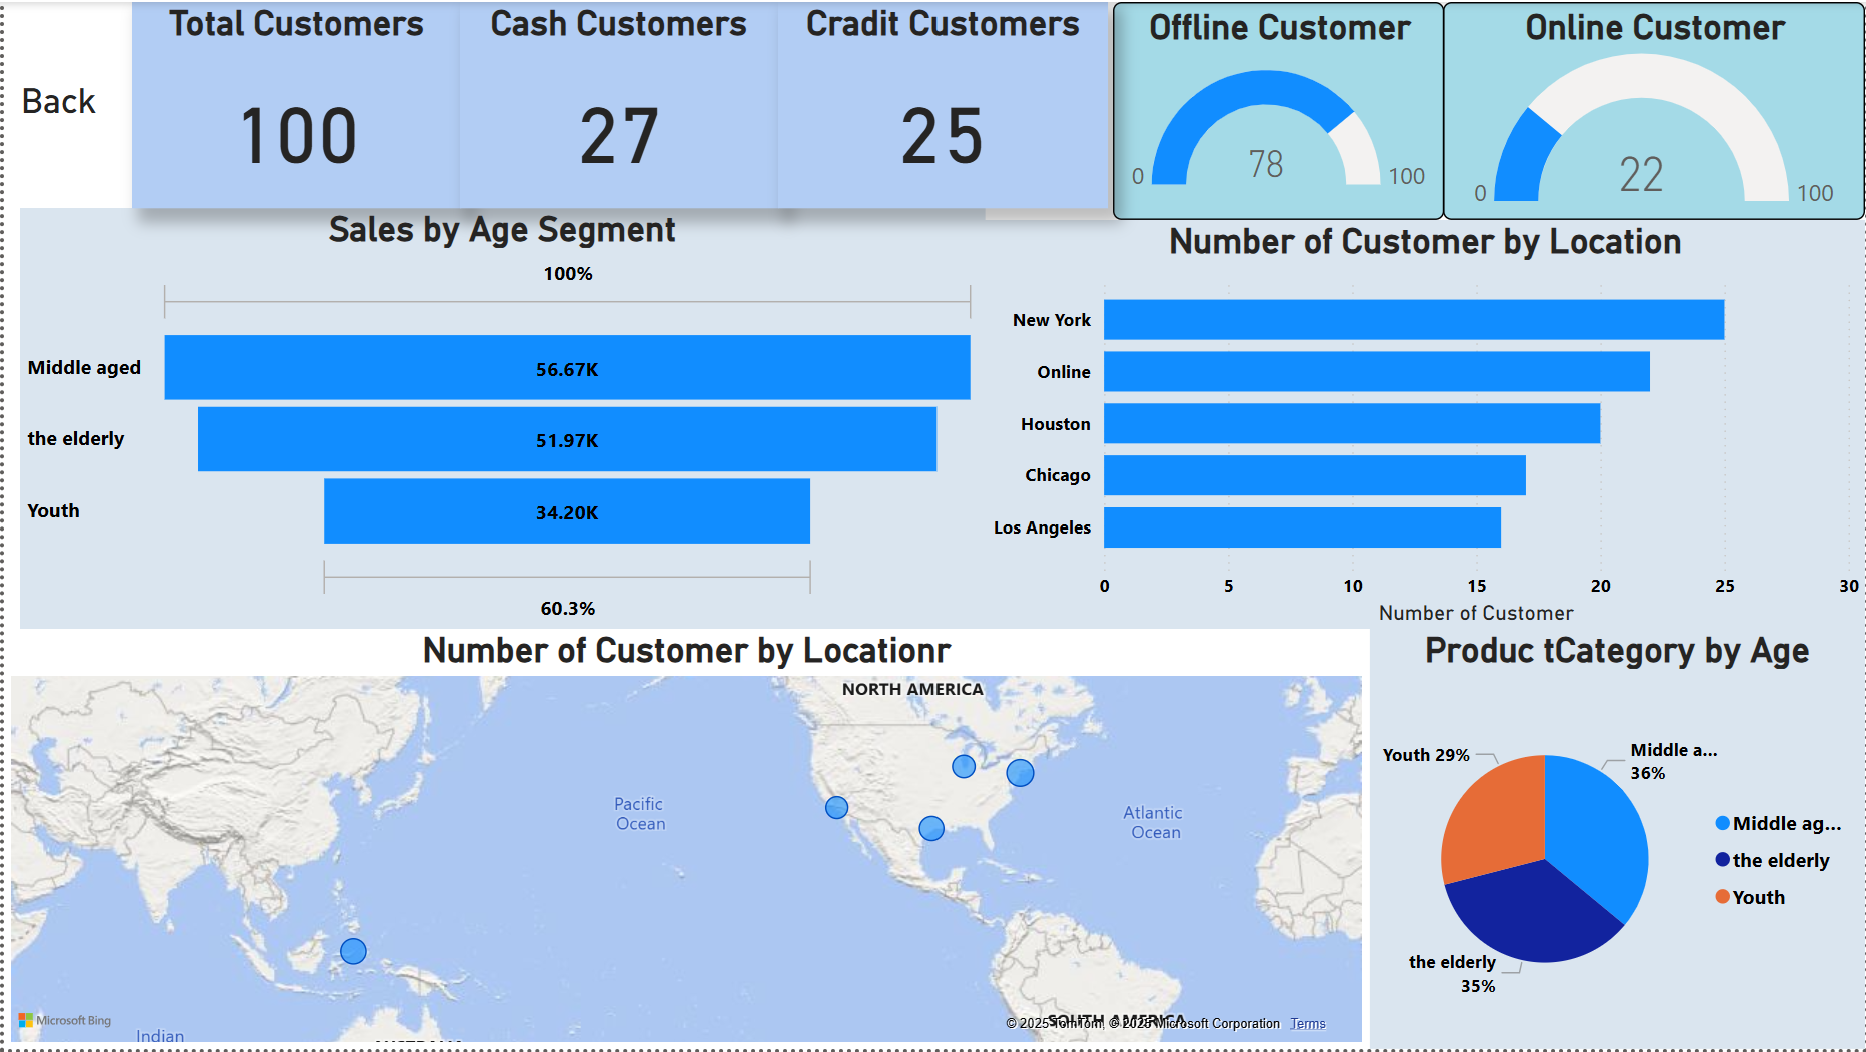

This screenshot's page, from the dashboard's own definition file:
{"tool":"powerbi","page":{"name":"Customer Analysis ","canvas":[1280,720],"ordinal":2},"visuals":[{"type":"actionButton","title":"Back","box":[0,53.1,75,32.8],"z":0},{"type":"pieChart","title":" Produc tCategory by Age","fields":{"Category":["Table1.Age Segment"],"Y":["Table1.ProductCategory"]},"box":[939.3,431.4,342.3,289.1],"z":1000},{"type":"clusteredBarChart","fields":{"Category":["Table1.Location"],"Y":["Measures list.Number of Customer"]},"box":[675.2,150,606.4,282.9],"z":2000},{"type":"funnel","title":" Sales by Age Segment","fields":{"Category":["Table1.Age Segment"],"Y":["Measures list.Total Sales"]},"box":[10.9,142.2,664.2,290.7],"z":3000},{"type":"map","title":" Number of Customer by Locationr ","fields":{"Category":["Table1.Location"],"Series":["Table1.Number of Customer"],"Size":["Table1.Number of Customer"]},"box":[0,431.4,939.3,289.1],"z":4000},{"type":"card","title":"Total Customers","fields":{"Values":["Measures list.Number of Customer"]},"box":[87.5,0,226.6,142.2],"z":5000},{"type":"card","title":"Cash Customers","fields":{"Values":["Measures list.Cash Users"]},"box":[314.1,0,218.8,142.2],"z":6000},{"type":"gauge","title":"Online Customer","fields":{"Y":["Measures list.Online Users"],"MaxValue":["Measures list.Number of Customer"]},"box":[989.3,0,290.7,150],"z":7000},{"type":"gauge","title":"Offline Customer","fields":{"Y":["Measures list.Offline Users"],"MaxValue":["Measures list.Number of Customer"]},"box":[762.7,0,228.2,150],"z":8000},{"type":"card","title":"Cradit  Customers","fields":{"Values":["Measures list.Credit Card Users"]},"box":[532.9,0,226.6,142.2],"z":9000}]}

Visuals, with their boxes in screenshot pixels (x1, y1, x2, y2), scaled from the page's 1280x720 canvas onto the 1866x1052 screenshot:
"Back" actionButton: 0 78 109 126
" Produc tCategory by Age" pieChart: 1369 630 1865 1051
clusteredBarChart - Table1.Location x Measures list.Number of Customer: 984 219 1865 633
" Sales by Age Segment" funnel: 16 208 984 633
" Number of Customer by Locationr " map: 0 630 1369 1051
"Total Customers" card: 128 0 458 208
"Cash Customers" card: 458 0 777 208
"Online Customer" gauge: 1442 0 1865 219
"Offline Customer" gauge: 1112 0 1445 219
"Cradit  Customers" card: 777 0 1107 208
